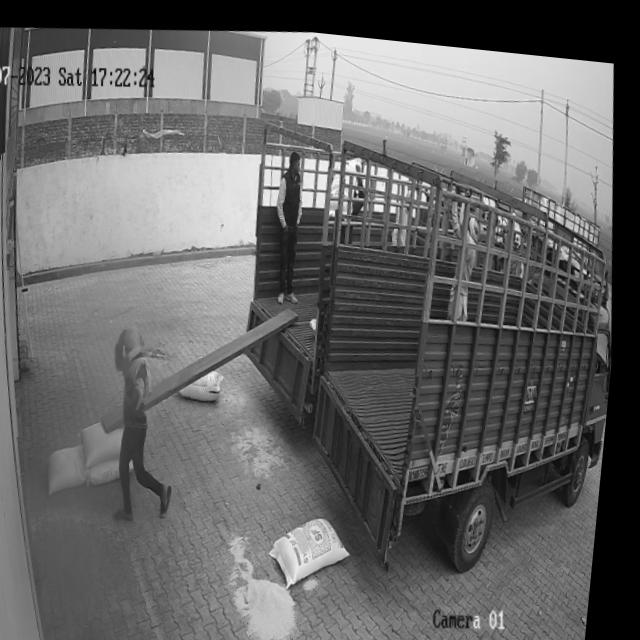sack: (272, 503, 365, 587), (52, 440, 100, 495), (84, 415, 136, 465), (182, 361, 233, 401), (94, 454, 133, 484)
